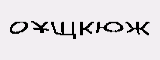Ж: (126, 21, 149, 36)
К: (80, 21, 93, 38)
О: (9, 20, 28, 35)
Щ: (50, 20, 76, 41)
Ю: (94, 20, 123, 35)
Ұ: (31, 20, 50, 34)
